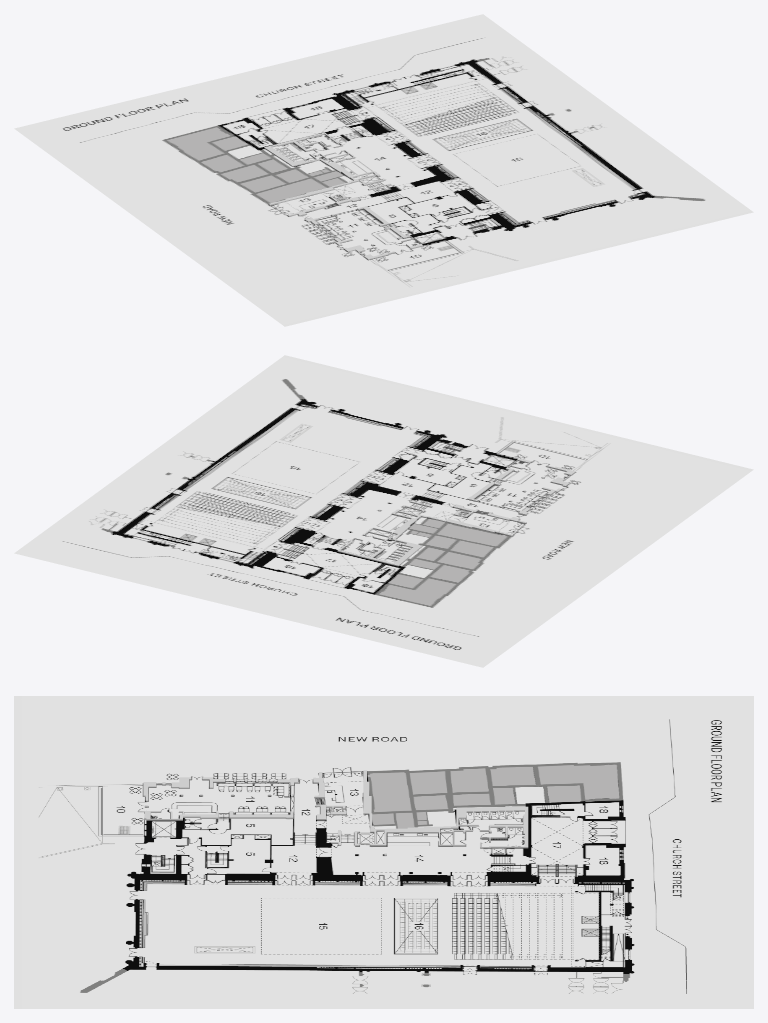
The model's file is VrBlenderAfterUviUnwrapedFirstAttempt_Mikhail_Fbx_3.fbx.
3 renders of one model, top to bottom at view 1: azimuth 30°, elevation 25°; view 2: azimuth 150°, elevation 25°; view 3: azimuth 270°, elevation 25°, orthographic. The views are drawn at different scales.
Parts seen in each view (by area): view 1: Plane, Cube.018; view 2: Plane, Cube.018; view 3: Plane, Cube.018.
Part boxes in pixels (box(x1,y1,x2,y2)): Plane: box(14, 14, 753, 326); Cube.018: box(264, 132, 379, 205); Plane: box(14, 355, 753, 667); Cube.018: box(337, 509, 513, 566); Plane: box(14, 696, 753, 1008); Cube.018: box(363, 770, 528, 848).
Bounding box in the file's own units: 29462 × 112 × 29462.
